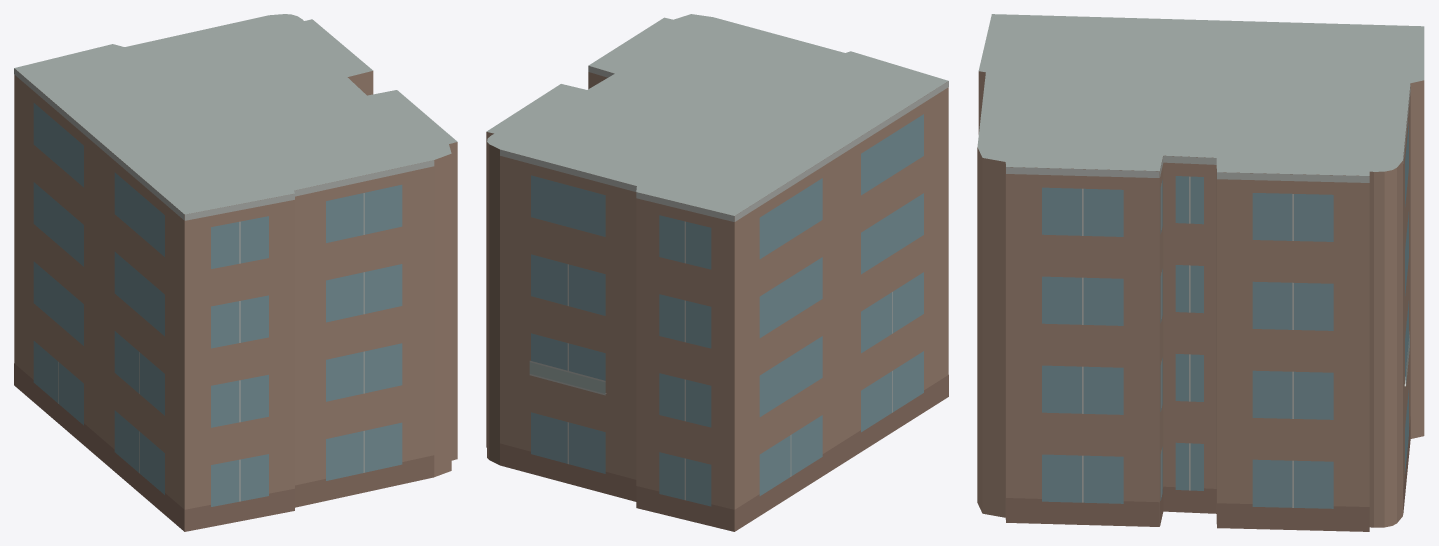
File: survey-upis-32917084.glb
3 views of the same model, side by side, from view 1: azimuth 30°, elevation 25°; view 2: azimuth 150°, elevation 25°; view 3: azimuth 270°, elevation 25° (orthographic). The views are drawn at different scales.
Visible parts, largest first — view 1: survey-upis-32917084.tmp; view 2: survey-upis-32917084.tmp; view 3: survey-upis-32917084.tmp.
Part boxes in pixels (<box>): survey-upis-32917084.tmp: <box>14,14,457,531</box>; survey-upis-32917084.tmp: <box>486,14,948,531</box>; survey-upis-32917084.tmp: <box>977,14,1424,531</box>.
Size of the model in its own units: 12.12 by 12.4 by 14.13.
